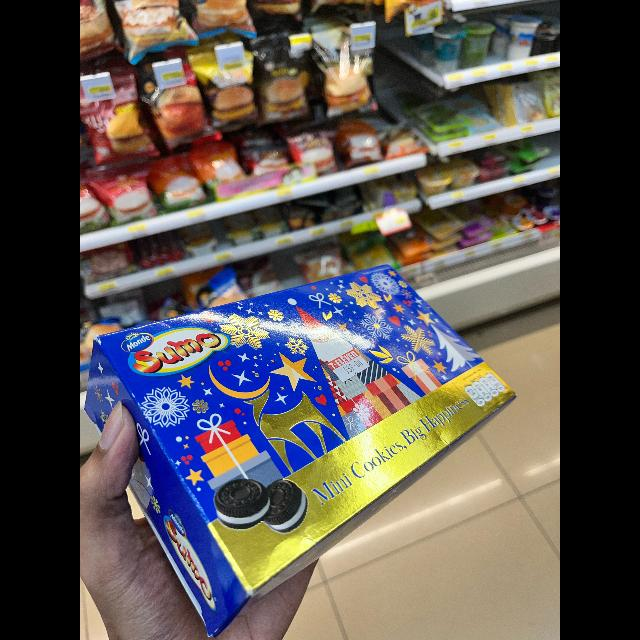cardboard_box: (80, 251, 520, 635)
